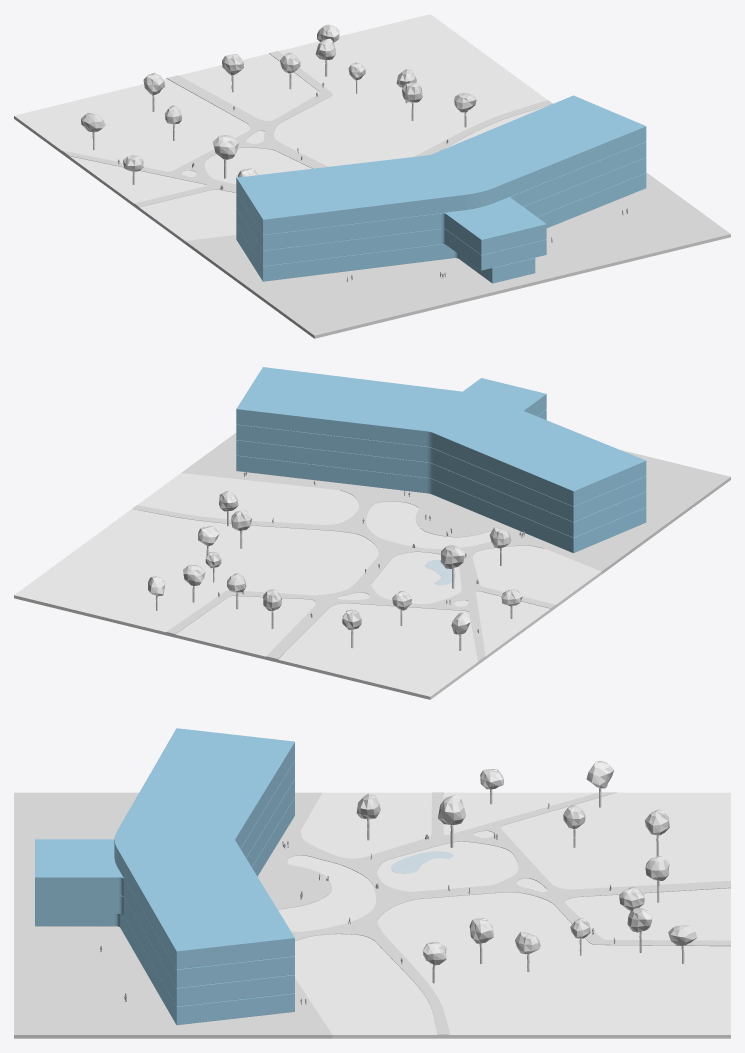
The model's file is campus.glb.
3 views of the same model, one above another, from view 1: azimuth 30°, elevation 25°; view 2: azimuth 150°, elevation 25°; view 3: azimuth 270°, elevation 25° (orthographic). The views are drawn at different scales.
Visible parts, largest first — view 1: park, building_base, floor_3, floor_2, floor_1, floor_0, paths_Retopo, trees, corner_room; view 2: park, floor_3, paths_Retopo, building_base, floor_2, floor_1, floor_0, trees, corner_room; view 3: park, floor_3, building_base, paths_Retopo, floor_2, trees, floor_1, floor_0, corner_room, Lake_Retopo_Retopo.
Part boxes in pixels (x1,y1,x2,y2): park: (14,14,549,243); building_base: (185,172,730,338); floor_3: (246,95,646,234); floor_2: (236,141,646,254); floor_1: (236,157,646,270); floor_0: (236,173,646,283); paths_Retopo: (62,51,552,207); trees: (81,24,476,184); corner_room: (236,172,291,207); park: (14,473,601,699); floor_3: (236,367,646,494); paths_Retopo: (132,490,555,661); building_base: (181,433,730,574); floor_2: (236,378,646,521); floor_1: (236,409,646,537); floor_0: (236,455,646,553); trees: (148,490,522,650); corner_room: (540,466,600,506); park: (278,792,730,1038); floor_3: (114,728,294,969); building_base: (14,792,332,1038); paths_Retopo: (266,792,730,1034); floor_2: (35,760,294,987); trees: (356,761,697,983); floor_1: (35,779,294,1006); floor_0: (35,797,294,1024); corner_room: (237,736,294,781); Lake_Retopo_Retopo: (391,851,453,873).
Bounding box in the file's own units: 2.8 × 0.42 × 3.5.
